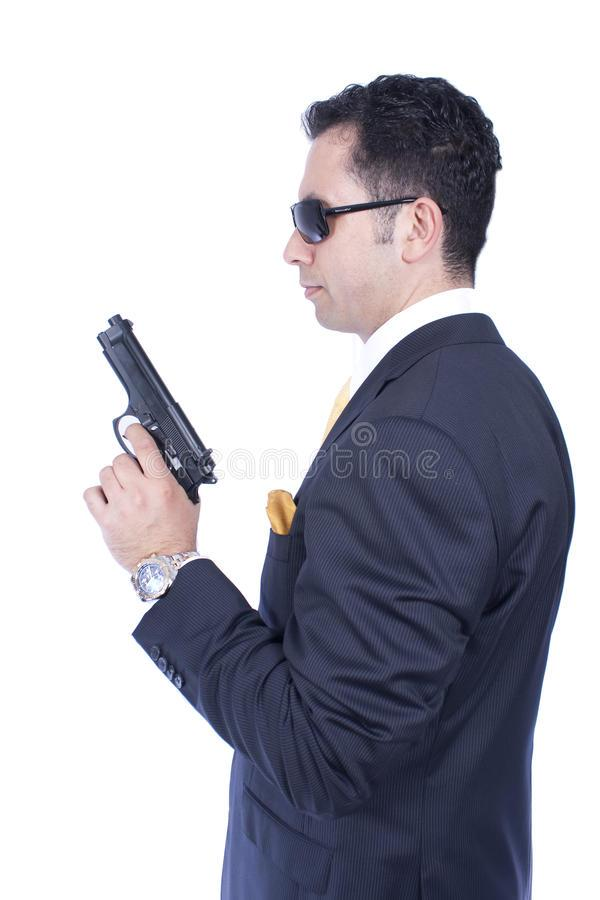criminal: (74, 66, 581, 900)
weapon: (88, 304, 222, 512)
